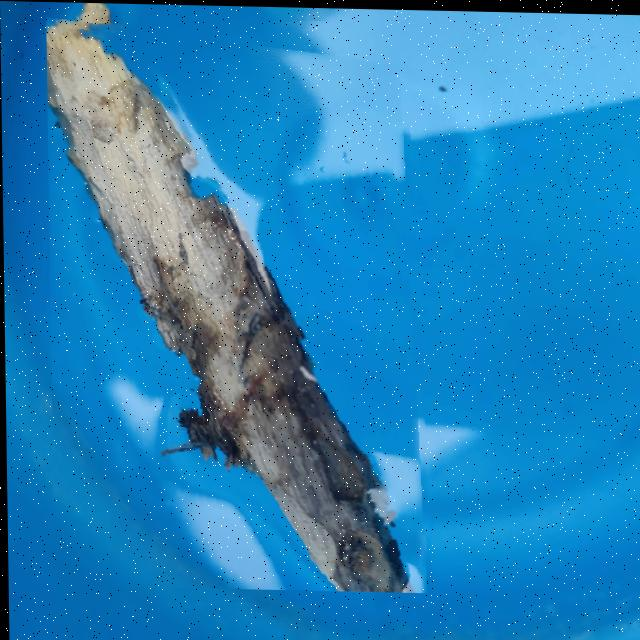litter: (46, 14, 427, 590)
